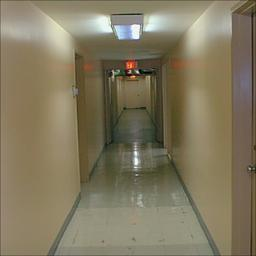Puerta: (234, 14, 254, 255), (71, 50, 92, 191), (126, 79, 138, 109)
